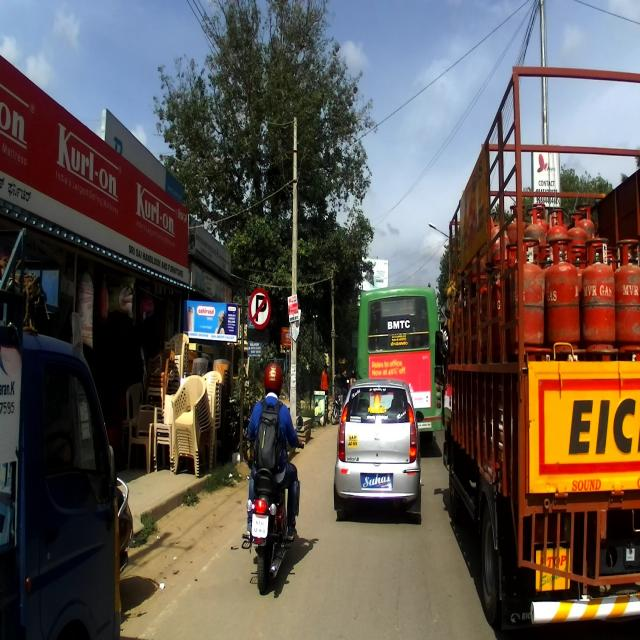bus: (358, 285, 447, 449)
car: (331, 379, 425, 521)
motorcycle: (242, 413, 304, 590)
truck: (435, 65, 639, 637), (1, 223, 127, 639)
